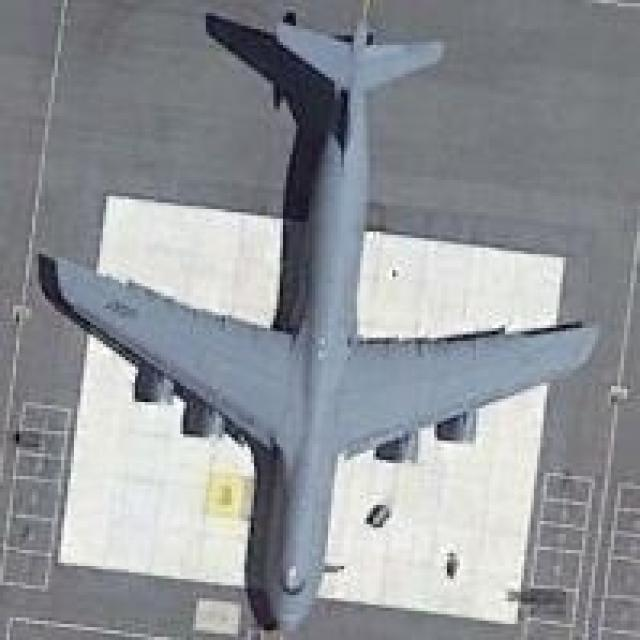C-5_TopDown: (36, 0, 598, 637)
